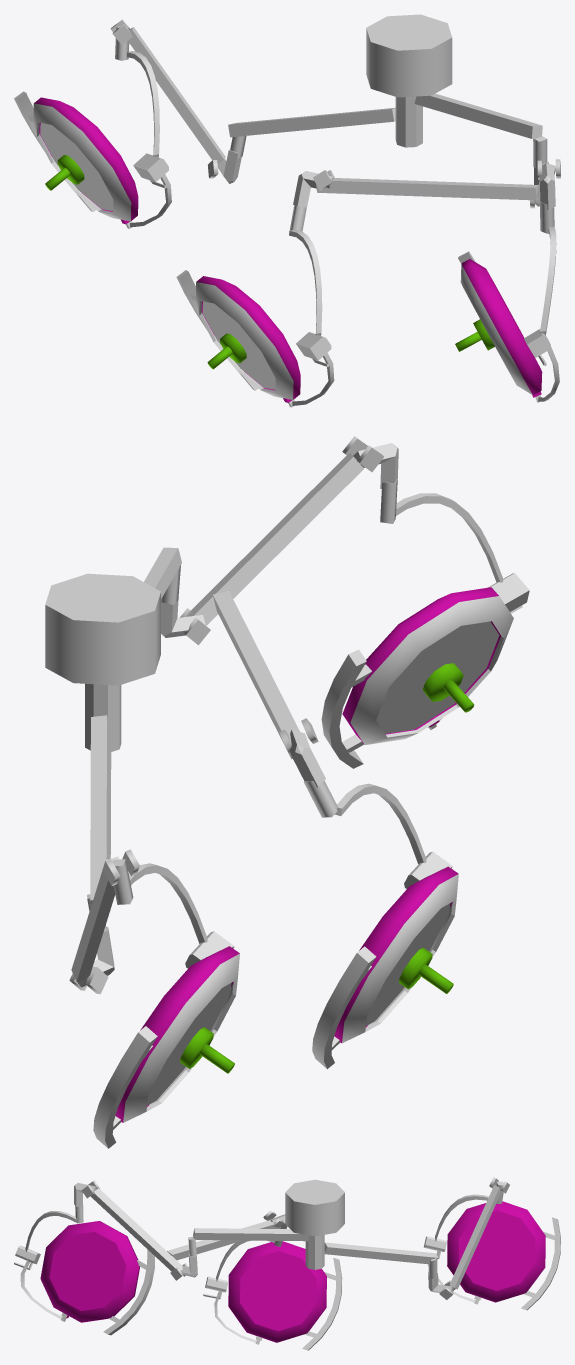
File: 수술조명대제출.fbx
3 views of the same model, one above another, from view 1: azimuth 30°, elevation 25°; view 2: azimuth 150°, elevation 25°; view 3: azimuth 270°, elevation 25° (orthographic). The views are drawn at different scales.
Parts seen in each view (by area): view 1: 연결점001; view 2: 연결점001; view 3: 연결점001.
Part boxes in pixels (<box>): 연결점001: <box>14,14,560,407</box>; 연결점001: <box>45,436,529,1148</box>; 연결점001: <box>14,1177,560,1350</box>.
Size of the model in its own units: 44.24 by 48.02 by 112.
